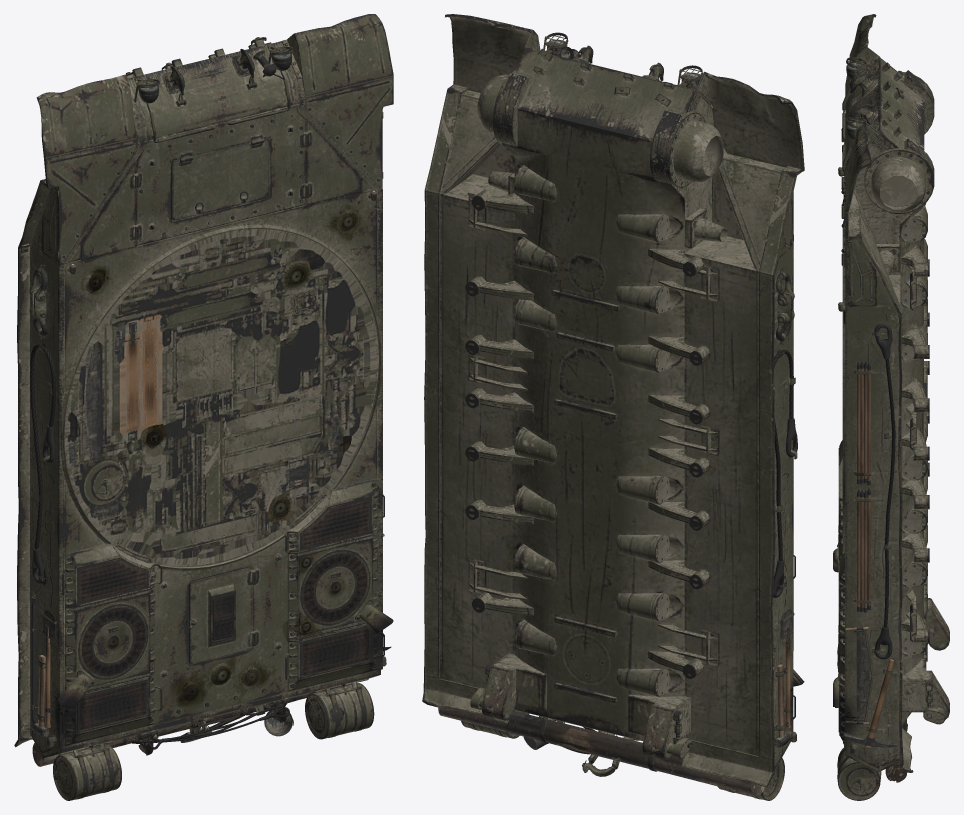
The model's file is Hull.glb.
The picture shows the model from 3 angles, left to right: view 1: azimuth 30°, elevation 25°; view 2: azimuth 150°, elevation 25°; view 3: azimuth 270°, elevation 25°; orthographic projection. The views are drawn at different scales.
Visible parts, largest first — view 1: set_0_group_0; view 2: set_0_group_0; view 3: set_0_group_0.
Boxes of the visible parts, x1,y1,x2,y2 form: set_0_group_0: (14, 14, 393, 800); set_0_group_0: (422, 14, 804, 800); set_0_group_0: (833, 14, 949, 800).
Size of the model in its own units: 3.48 by 6.77 by 1.1.
1 material, 1 textured.
